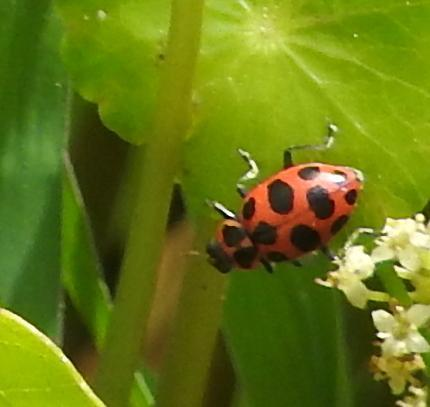ladybug: (181, 120, 390, 280)
